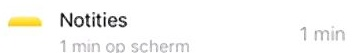name: (56, 8, 135, 32)
time: (58, 37, 102, 53)
